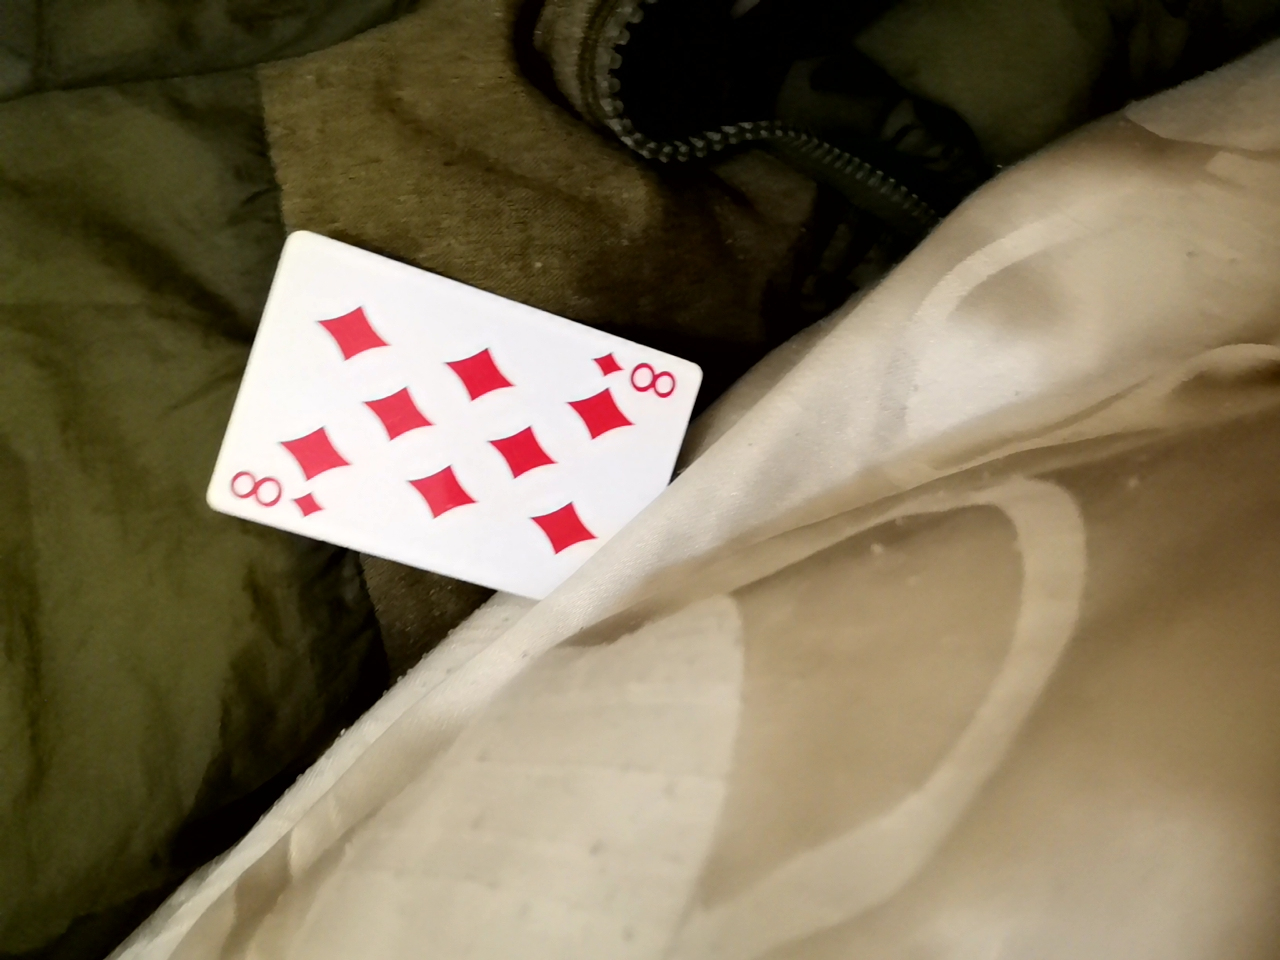fk 8: (221, 225, 724, 602)
